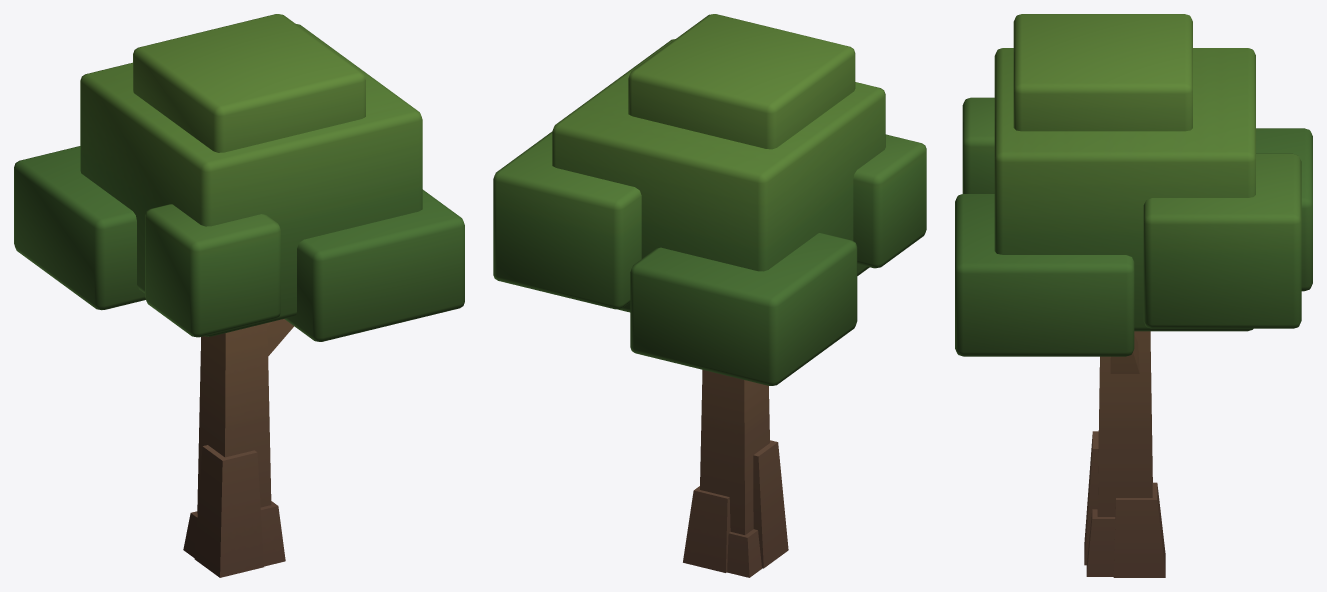
The model's file is tree3.fbx.
3 renders of one model, left to right at view 1: azimuth 30°, elevation 25°; view 2: azimuth 150°, elevation 25°; view 3: azimuth 270°, elevation 25°, orthographic. The views are drawn at different scales.
Visible parts, largest first — view 1: tree2.001; view 2: tree2.001; view 3: tree2.001.
Boxes of the visible parts, x1=… form: tree2.001: x1=14, y1=14, x2=464, y2=577; tree2.001: x1=493, y1=14, x2=926, y2=577; tree2.001: x1=955, y1=14, x2=1312, y2=577.
Bounding box in the file's own units: 438 × 444 × 705.
